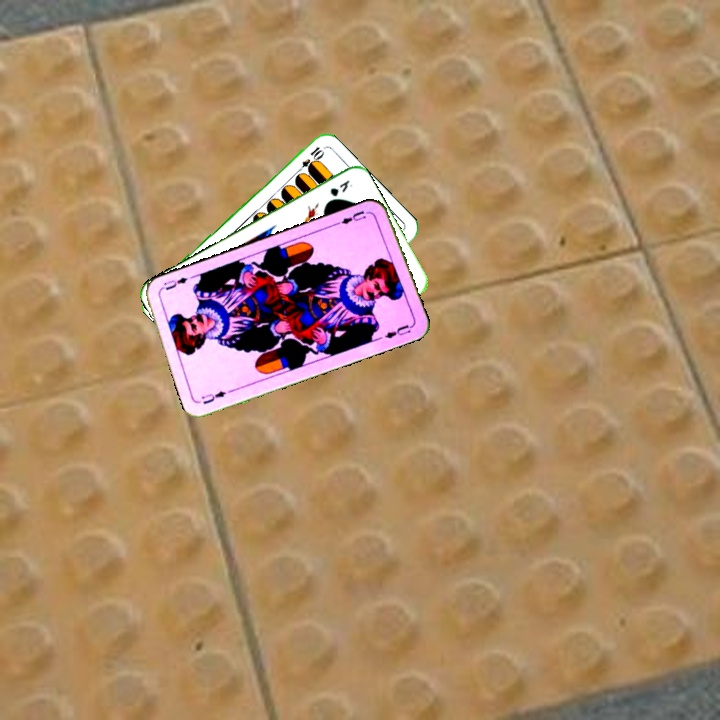E10: (292, 142, 325, 177)
EU: (198, 385, 236, 407), (337, 206, 368, 227)
GK: (326, 176, 355, 199)
